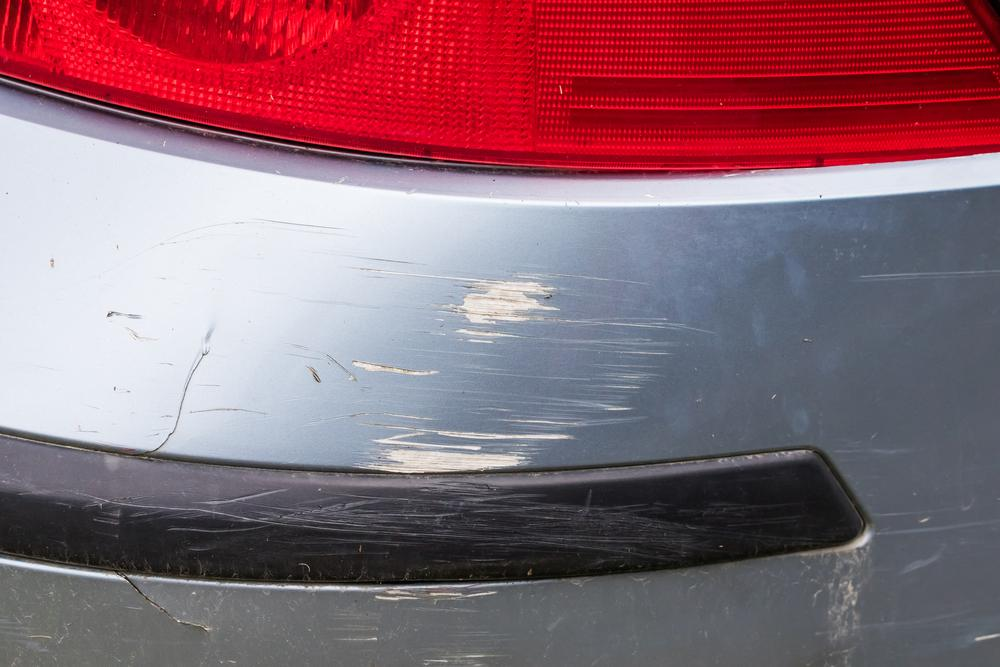crack: (111, 570, 210, 634)
scratch: (212, 215, 700, 473), (100, 481, 724, 558), (323, 584, 536, 667)
